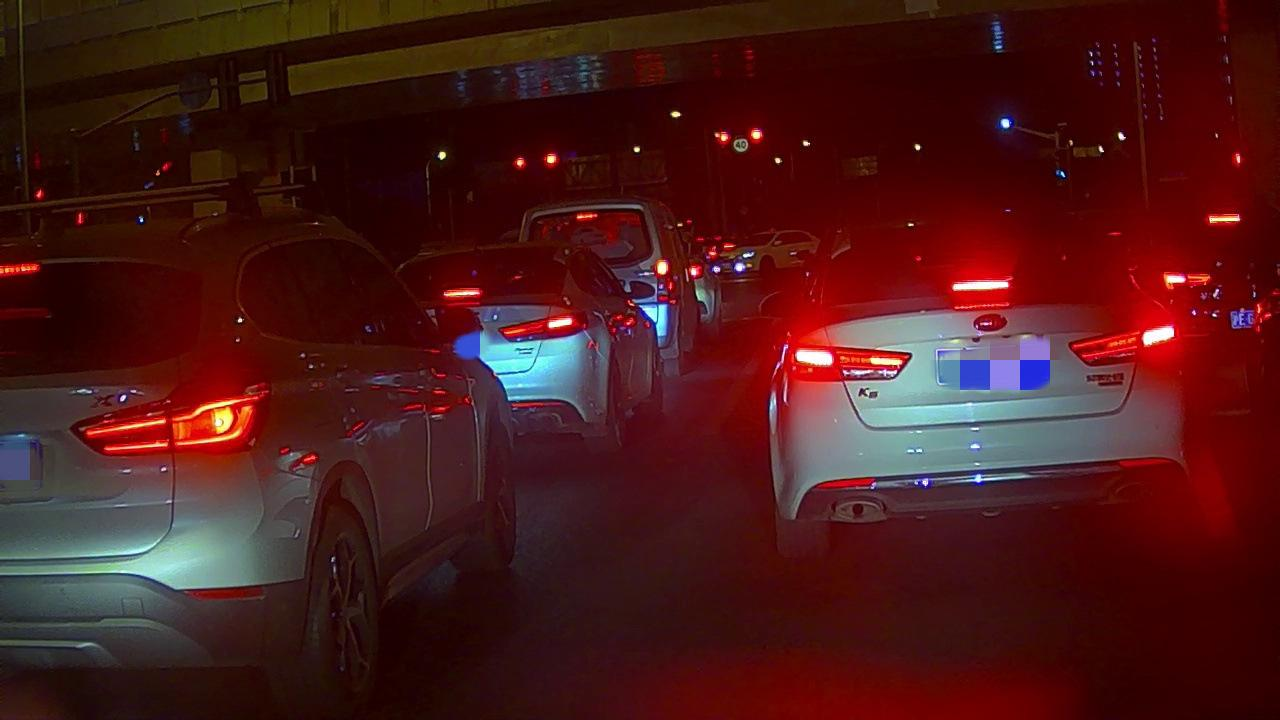traffic_light: (541, 149, 560, 169), (713, 130, 733, 146), (748, 127, 764, 146), (512, 155, 528, 172)
